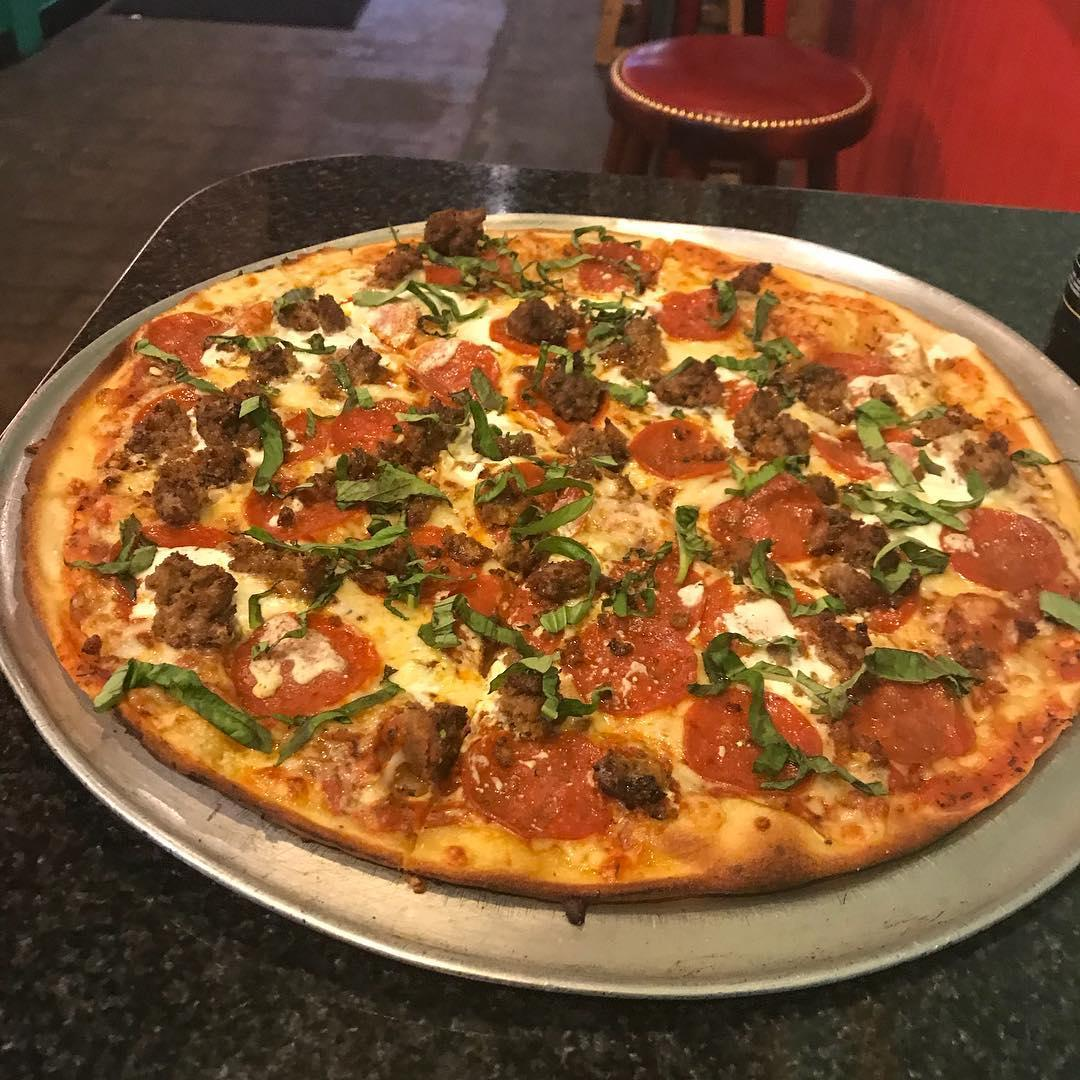Pepperoni: (460, 730, 620, 839), (233, 612, 383, 709), (689, 692, 823, 792), (839, 668, 980, 759), (576, 623, 695, 710), (943, 508, 1065, 588), (709, 479, 829, 551), (277, 399, 406, 457), (477, 461, 589, 526), (246, 476, 361, 535), (611, 556, 710, 624), (700, 582, 811, 638), (141, 311, 236, 371), (513, 367, 610, 420), (802, 421, 910, 468), (409, 339, 496, 397), (634, 423, 731, 474), (427, 247, 519, 292), (574, 238, 660, 285), (660, 293, 737, 336), (838, 589, 920, 628), (134, 387, 208, 423), (814, 353, 890, 376)
Pizza: (17, 230, 1080, 907)
